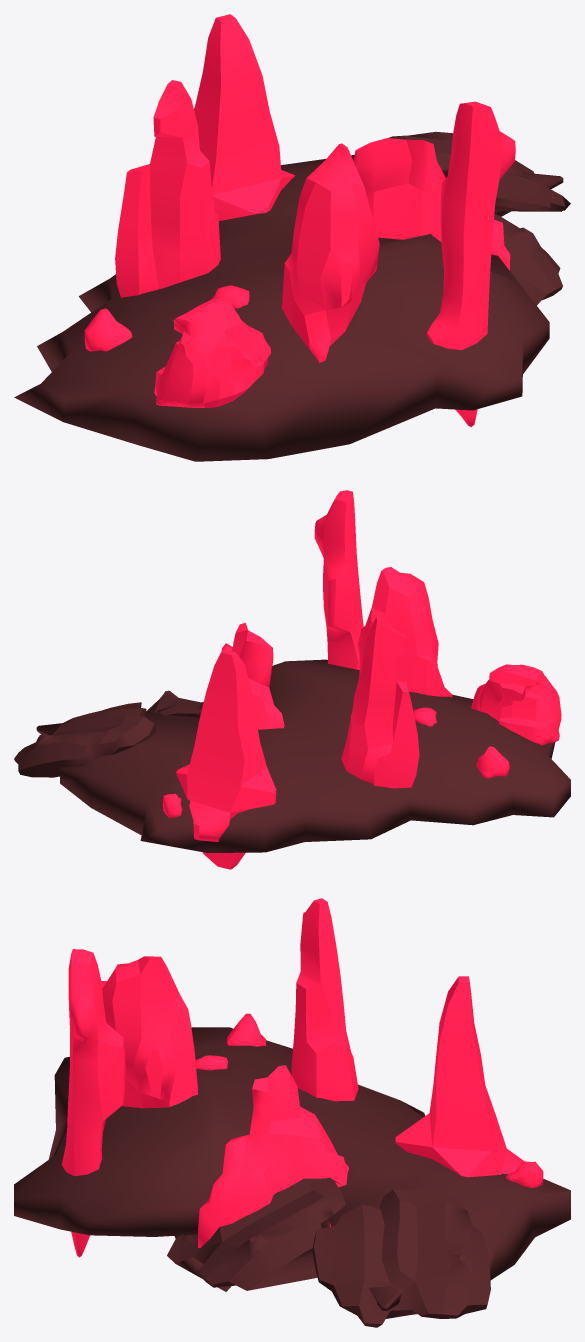
File: pile_red.glb
The picture shows the model from 3 angles, top to bottom: view 1: azimuth 30°, elevation 25°; view 2: azimuth 150°, elevation 25°; view 3: azimuth 270°, elevation 25°; orthographic projection. The views are drawn at different scales.
Visible parts, largest first — view 1: rock.007, rock.009, rock.008, rock.011, rock.004, rock.017, rock.026, rock.006, rock.001, rock.030, rock.035; view 2: rock.007, rock.004, rock.009, rock.011, rock.008, rock.006, rock.017, rock.026, rock.001, rock.030; view 3: rock.007, rock.006, rock.026, rock.004, rock.001, rock.008, rock.011, rock.009, rock.030, rock.032.
Boxes of the visible parts, left/top/right/bottom form: rock.007: left=14, top=155, right=563, bottom=461; rock.009: left=115, top=80, right=220, bottom=297; rock.008: left=282, top=143, right=379, bottom=362; rock.011: left=426, top=101, right=515, bottom=427; rock.004: left=194, top=14, right=295, bottom=220; rock.017: left=154, top=298, right=270, bottom=407; rock.026: left=353, top=138, right=510, bottom=270; rock.006: left=388, top=131, right=570, bottom=211; rock.001: left=494, top=214, right=562, bottom=305; rock.030: left=84, top=308, right=132, bottom=351; rock.035: left=212, top=285, right=249, bottom=308; rock.007: left=36, top=659, right=570, bottom=852; rock.004: left=176, top=649, right=276, bottom=869; rock.009: left=341, top=616, right=419, bottom=788; rock.011: left=314, top=490, right=363, bottom=669; rock.008: left=358, top=567, right=452, bottom=697; rock.006: left=14, top=702, right=156, bottom=777; rock.017: left=471, top=664, right=561, bottom=745; rock.026: left=221, top=623, right=284, bottom=729; rock.001: left=146, top=690, right=203, bottom=720; rock.030: left=476, top=746, right=509, bottom=778; rock.007: left=14, top=1027, right=570, bottom=1310; rock.006: left=312, top=1189, right=490, bottom=1327; rock.026: left=198, top=1065, right=348, bottom=1247; rock.004: left=395, top=976, right=524, bottom=1177; rock.001: left=167, top=1177, right=346, bottom=1291; rock.008: left=102, top=956, right=197, bottom=1108; rock.011: left=62, top=949, right=125, bottom=1257; rock.009: left=291, top=898, right=358, bottom=1101; rock.030: left=226, top=1013, right=265, bottom=1046; rock.032: left=506, top=1161, right=543, bottom=1187.
Bounding box in the file's own units: 34.94 × 18.17 × 28.82.
